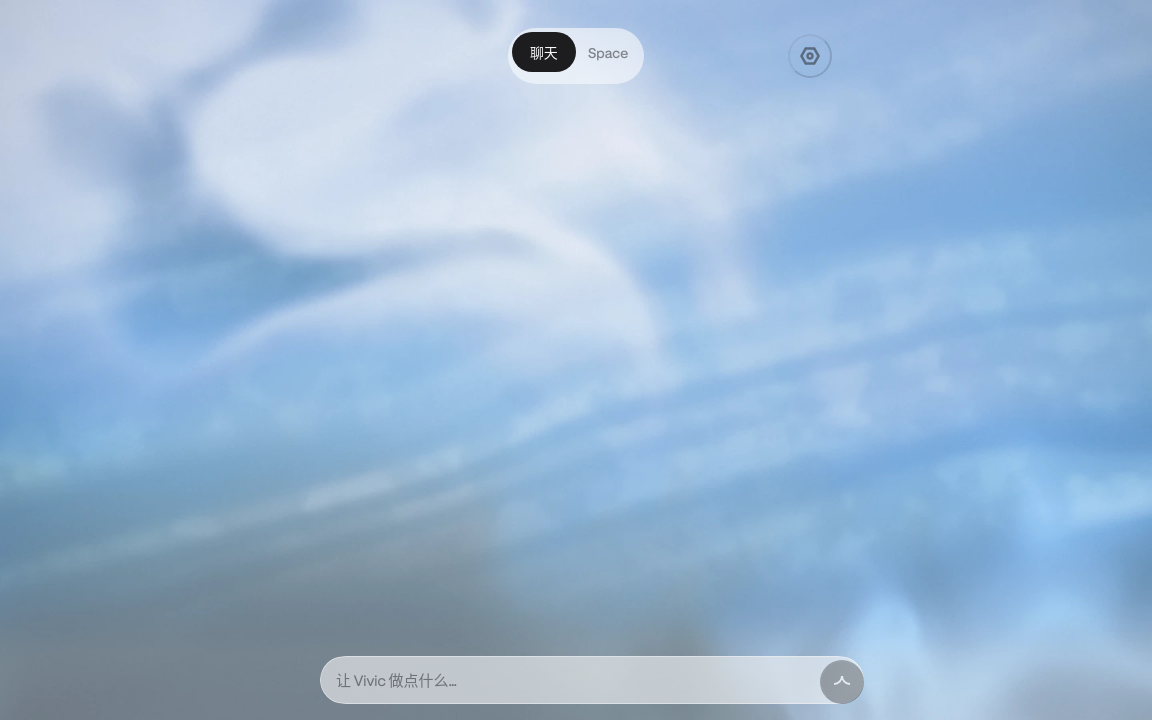
mobile execution feedback › offers exactly two main pages and limits the settings sheet to phone appearance and connection
Expected: the number of tabs is 2, x1=512 y1=32 x2=576 y2=72; x1=576 y1=32 x2=640 y2=72
Step 1. Click the button named "打开设置" → {"x": 810, "y": 56}, box x1=788 y1=34 x2=832 y2=78
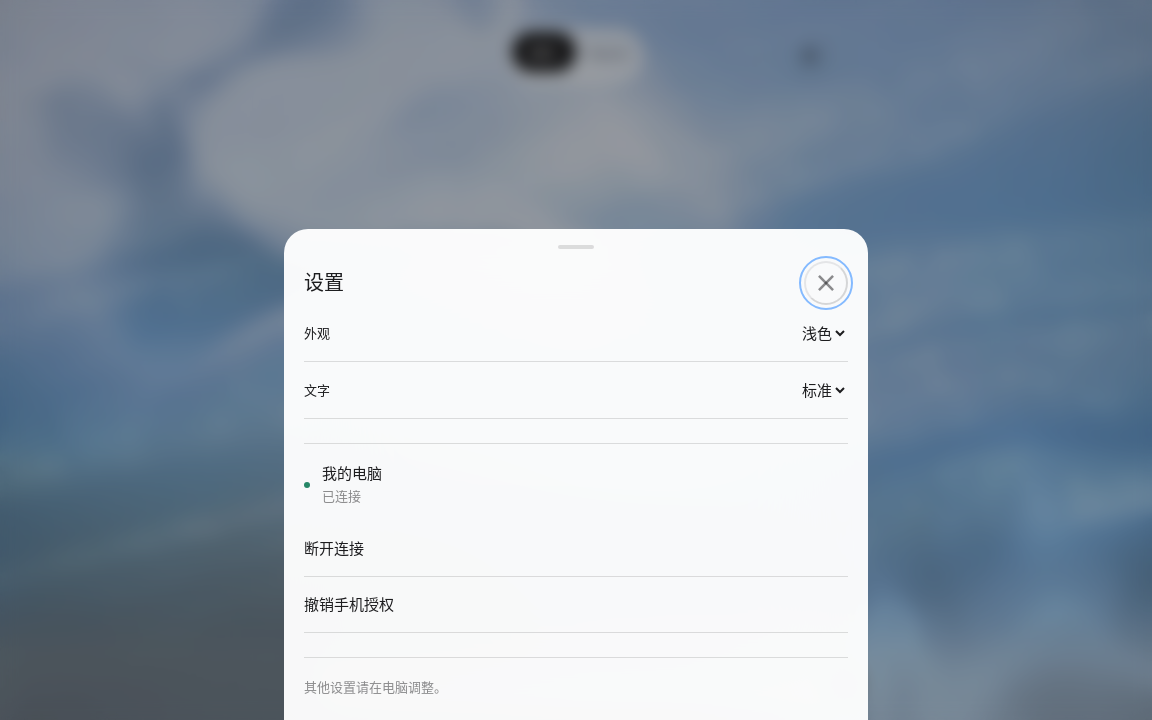
Now the dropdown with id "mobile-theme" is shown, box x1=781 y1=311 x2=848 y2=355
Now the dropdown with id "mobile-text-size" is shown, box x1=781 y1=368 x2=848 y2=412
Now the dialog with class "mobile-settings-sheet" shows "其他设置请在电脑调整", box x1=304 y1=679 x2=447 y2=694
